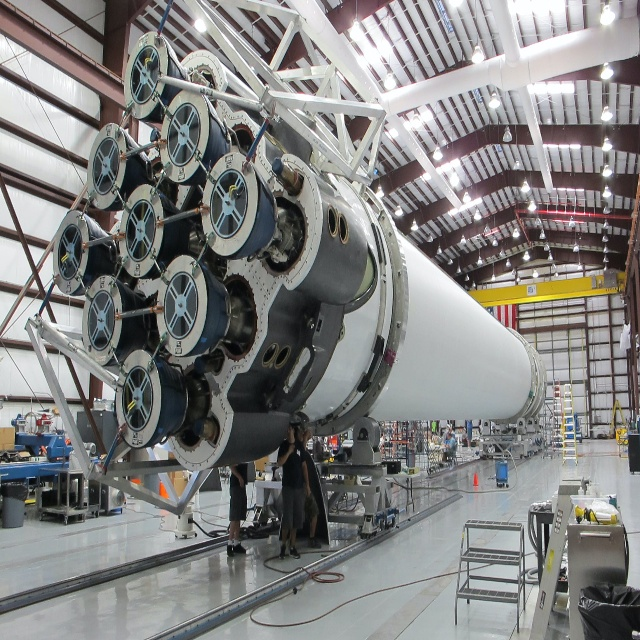Sin_guantes: (238, 474, 244, 488), (305, 485, 311, 498), (289, 444, 295, 453)
